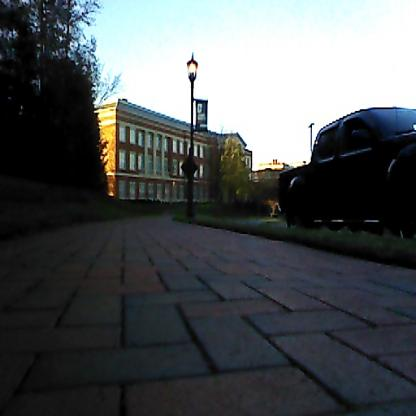Sidewalk: (0, 217, 416, 416)
